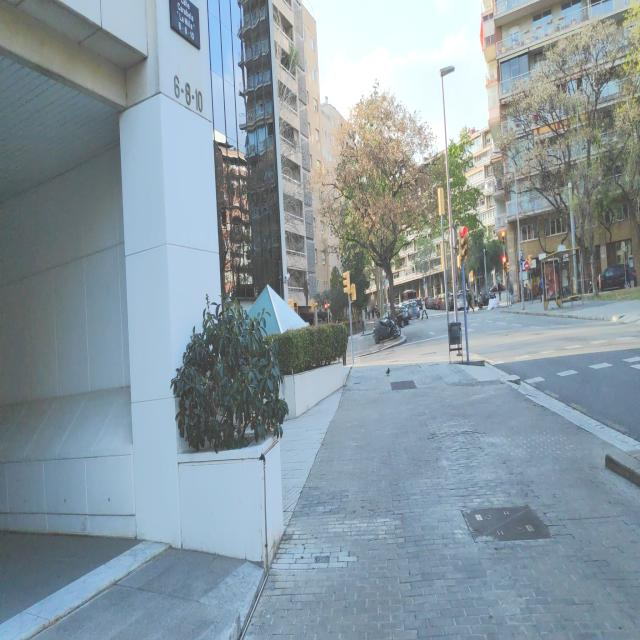bike: (371, 314, 399, 342)
car: (599, 262, 637, 292), (455, 292, 466, 311), (426, 296, 436, 310)
